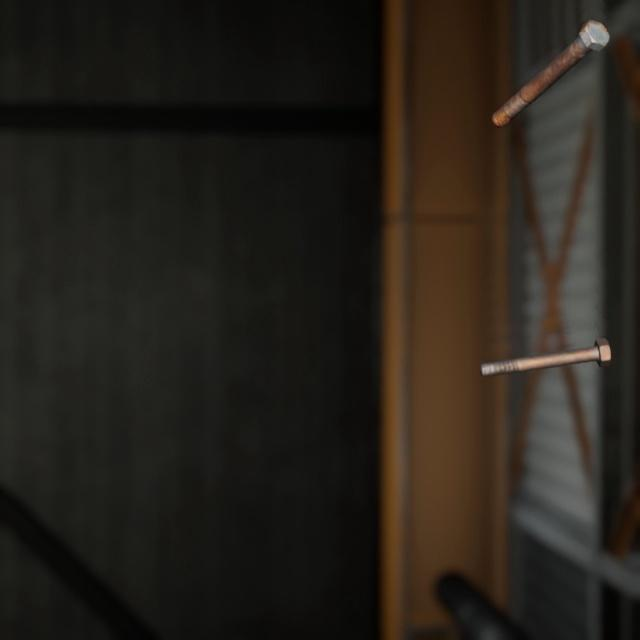bolt: (487, 4, 614, 121), (474, 314, 615, 363)
